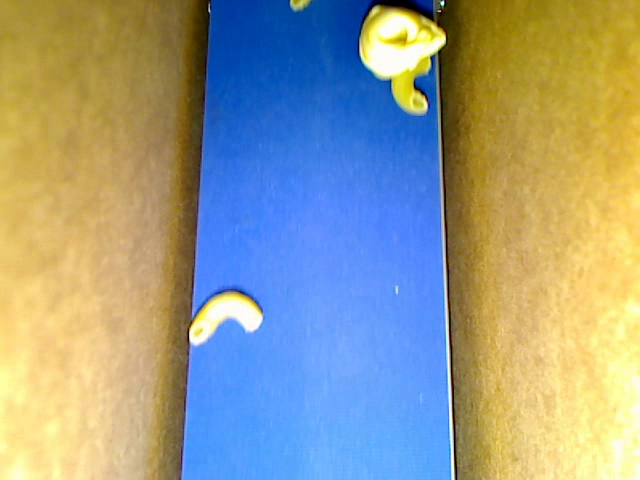elbow: (186, 290, 264, 345), (391, 54, 431, 115)
tortellini: (359, 6, 446, 81)
